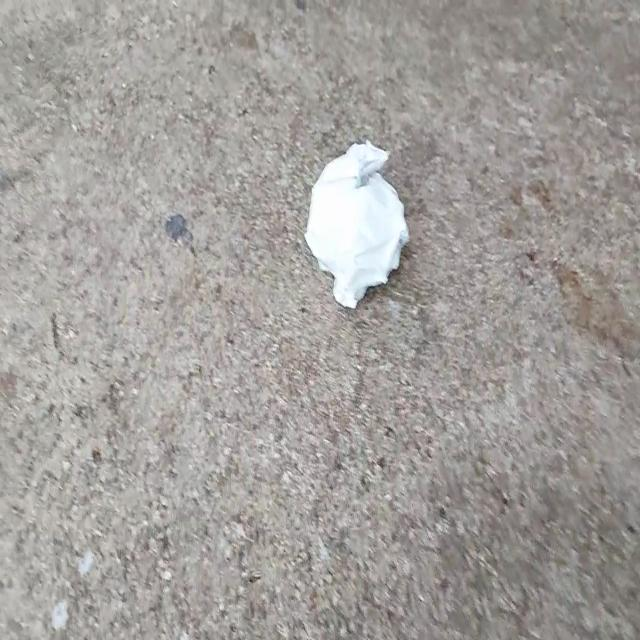Paper: (277, 113, 444, 338)
